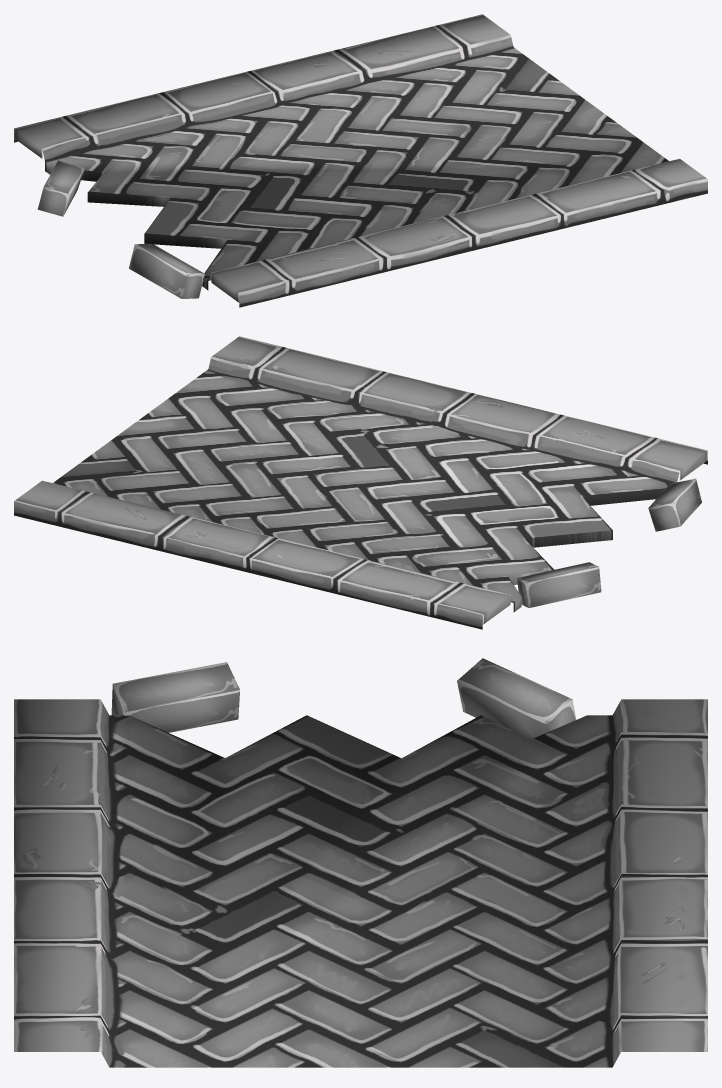
File: Road Broken Edge Start 4m.fbx
The picture shows the model from 3 angles, top to bottom: view 1: azimuth 30°, elevation 25°; view 2: azimuth 150°, elevation 25°; view 3: azimuth 270°, elevation 25°; orthographic projection. The views are drawn at different scales.
Visible parts, largest first — view 1: Road; view 2: Road; view 3: Road.
Boxes of the visible parts, box(x1,y1,x2,y2) form: Road: box(14, 14, 707, 307); Road: box(14, 336, 707, 629); Road: box(14, 658, 707, 1067).
Bounding box in the file's own units: 4.63 × 0.3159 × 3.5.
